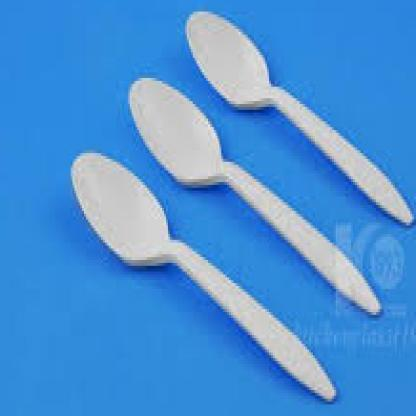Others: (69, 12, 415, 404)
